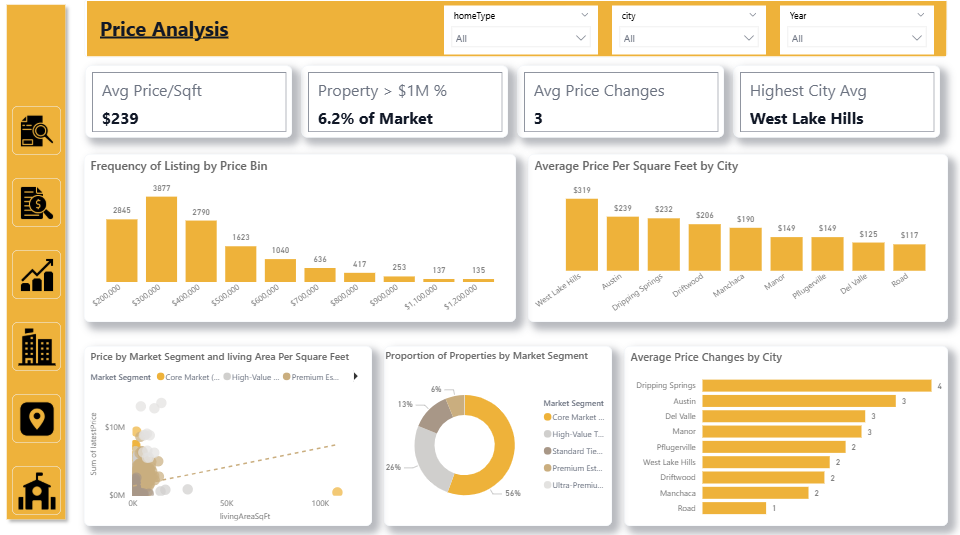

This screenshot's page, from the dashboard's own definition file:
{"tool":"powerbi","page":{"name":"Price Analysis","canvas":[1280,720],"ordinal":1},"visuals":[{"type":"cardVisual","fields":{"Data":["Measure.Avg Price per SqFT"]},"box":[113.8,90,275,96],"z":0},{"type":"cardVisual","fields":{"Data":["Measure.Property>$1M%"]},"box":[401.8,90,275,96],"z":1000},{"type":"cardVisual","fields":{"Data":["Measure.Avg Price Change"]},"box":[689.8,90,275,96],"z":2000},{"type":"cardVisual","fields":{"Data":["Measure.Highest City Avg"]},"box":[977.8,90,275,96],"z":3000},{"type":"clusteredColumnChart","title":"Frequency of Listing by Price Bin","fields":{"Category":["Fact_Housing.latestPrice (bins)"],"Y":["CountNonNull(Dim_Location.zpid)"]},"box":[112,208,576,224],"z":4000},{"type":"scatterChart","title":"Price by Market Segment and living Area Per Square Feet","fields":{"Series":["Fact_Housing.Market Segment"],"X":["Fact_Housing.livingAreaSqFt"],"Y":["Sum(Fact_Housing.latestPrice)"]},"box":[112,464,384,240],"z":5000},{"type":"clusteredColumnChart","title":"Average Price Per Square Feet by City","fields":{"Y":["Measure.Avg Price/Sqft"],"Category":["Dim_Location.city"]},"box":[704,208,560,224],"z":6000},{"type":"clusteredBarChart","title":"Average Price Changes by City","fields":{"Category":["Dim_Location.city"],"Y":["Measure.Avg Price Changes"]},"box":[832,464,432,240],"z":7000},{"type":"shape","box":[0,0,96,704],"z":8000},{"type":"image","box":[16,144,65,65],"z":9000},{"type":"image","box":[16,240,65,65],"z":10000},{"type":"image","box":[16,336,65,65],"z":11000},{"type":"image","box":[16,432,65,65],"z":12000},{"type":"image","box":[16,528,65,65],"z":13000},{"type":"image","box":[16,624,65,65],"z":14000},{"type":"shape","box":[112,0,1152,80],"z":15000},{"type":"slicer","fields":{"Values":["Fact_Housing.latest_saledate.Variation.Date Hierarchy.Year"]},"box":[1040,10,205,65],"z":16000},{"type":"slicer","fields":{"Values":["Dim_Location.city"]},"box":[816,10,205,65],"z":17000},{"type":"slicer","fields":{"Values":["Dim_House_Details.homeType"]},"box":[592,10,205,65],"z":18000},{"type":"donutChart","title":"Proportion of Properties by Market Segment","fields":{"Category":["Fact_Housing.Market Segment"],"Y":["Measure.Total Properties"]},"box":[512,464,304,240],"z":19000},{"type":"textbox","title":"Executive Overview","box":[128,16,256,64],"z":19001}]}

Visuals, with their boxes in screenshot pixels (x1, y1, x2, y2), scaled from the page's 1280x720 canvas onto the 960x535 screenshot:
cardVisual - Measure.Avg Price per SqFT: Rect(85, 67, 292, 138)
cardVisual - Measure.Property>$1M%: Rect(301, 67, 508, 138)
cardVisual - Measure.Avg Price Change: Rect(517, 67, 724, 138)
cardVisual - Measure.Highest City Avg: Rect(733, 67, 940, 138)
"Frequency of Listing by Price Bin" clusteredColumnChart: Rect(84, 155, 516, 321)
"Price by Market Segment and living Area Per Square Feet" scatterChart: Rect(84, 345, 372, 523)
"Average Price Per Square Feet by City" clusteredColumnChart: Rect(528, 155, 948, 321)
"Average Price Changes by City" clusteredBarChart: Rect(624, 345, 948, 523)
shape: Rect(0, 0, 72, 523)
image: Rect(12, 107, 61, 155)
image: Rect(12, 178, 61, 227)
image: Rect(12, 250, 61, 298)
image: Rect(12, 321, 61, 369)
image: Rect(12, 392, 61, 441)
image: Rect(12, 464, 61, 512)
shape: Rect(84, 0, 948, 59)
slicer - Fact_Housing.latest_saledate.Variation.Date Hierarchy.Year: Rect(780, 7, 934, 56)
slicer - Dim_Location.city: Rect(612, 7, 766, 56)
slicer - Dim_House_Details.homeType: Rect(444, 7, 598, 56)
"Proportion of Properties by Market Segment" donutChart: Rect(384, 345, 612, 523)
"Executive Overview" textbox: Rect(96, 12, 288, 59)
